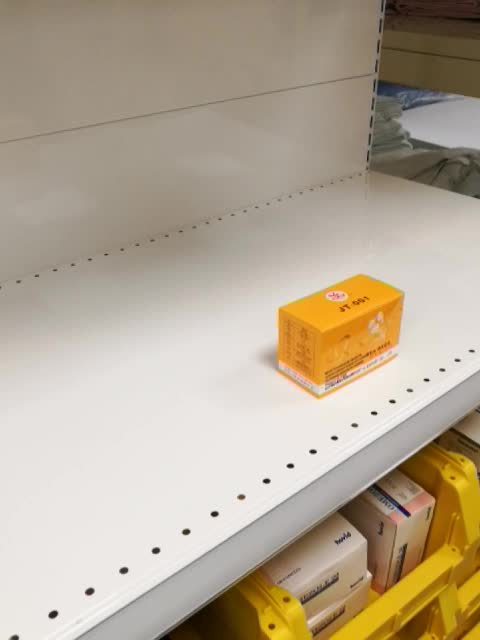jasminetea: (272, 269, 407, 404)
